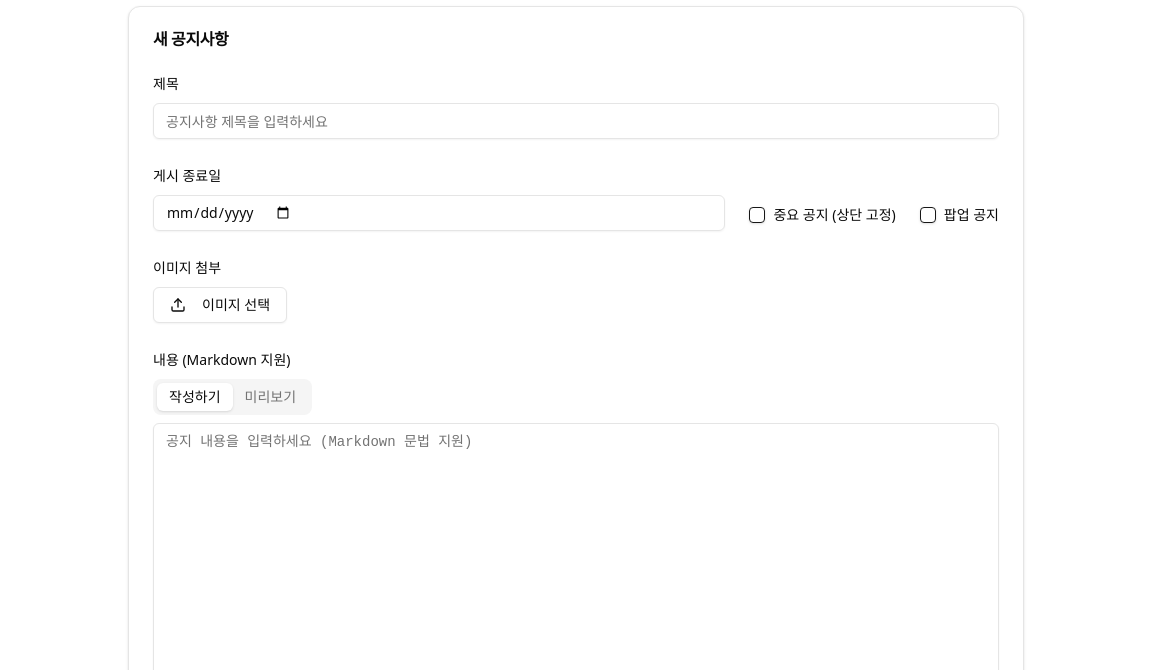
NotificationWrite › maps ApplicationError to a stable ErrorModal without code, cause, or database details
This screenshot has width=1152, height=670.
Type "새 공지" into the field labelled "제목" at (576, 121), box [153,103,999,139]
(page scrolled)
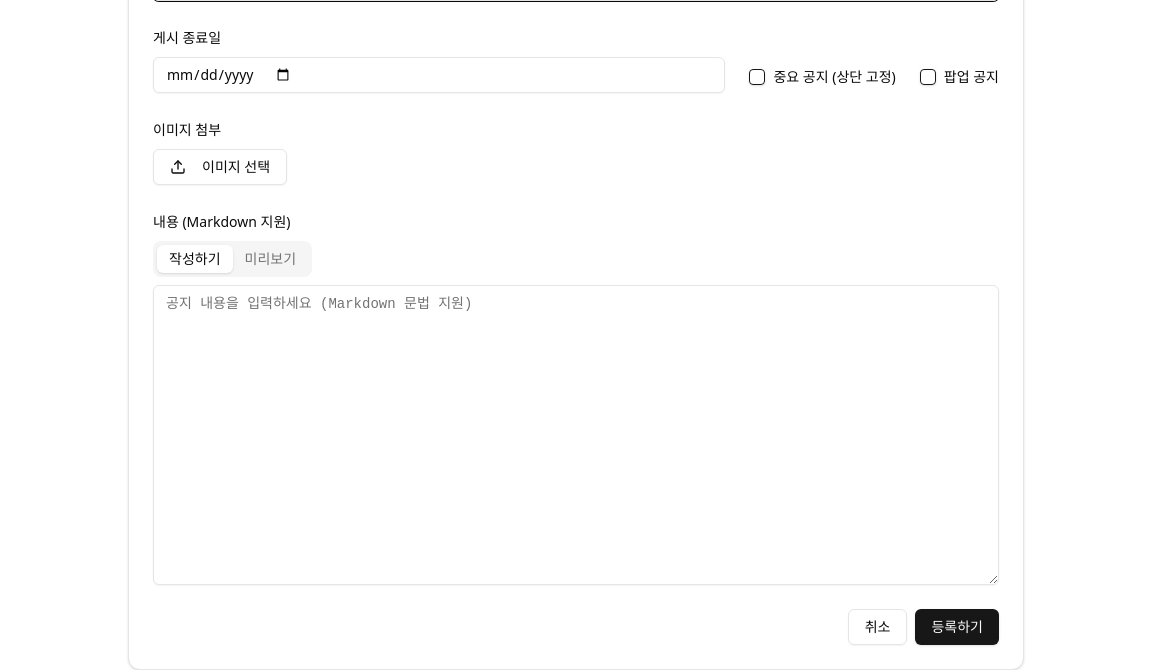
Type "새 공지 본문" into the text box with placeholder "공지 내용을 입력하세요 (Markdown 문법 지원)" at (576, 435), box [153,285,999,585]
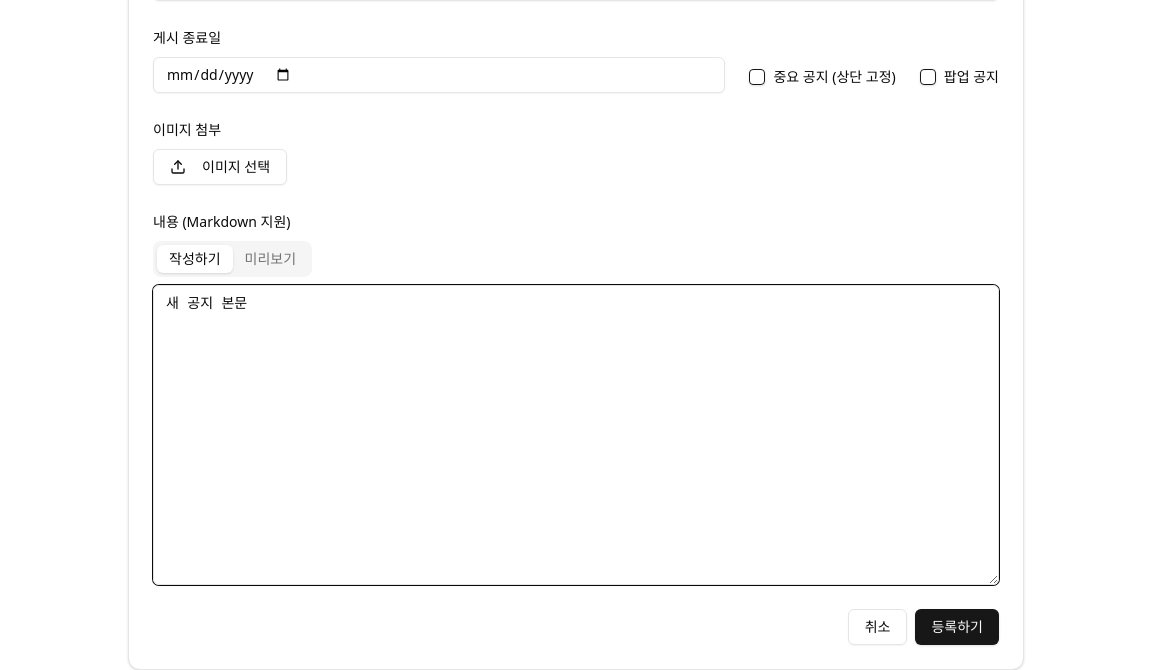
Click the button "등록하기" at (957, 627), box [916,609,999,645]
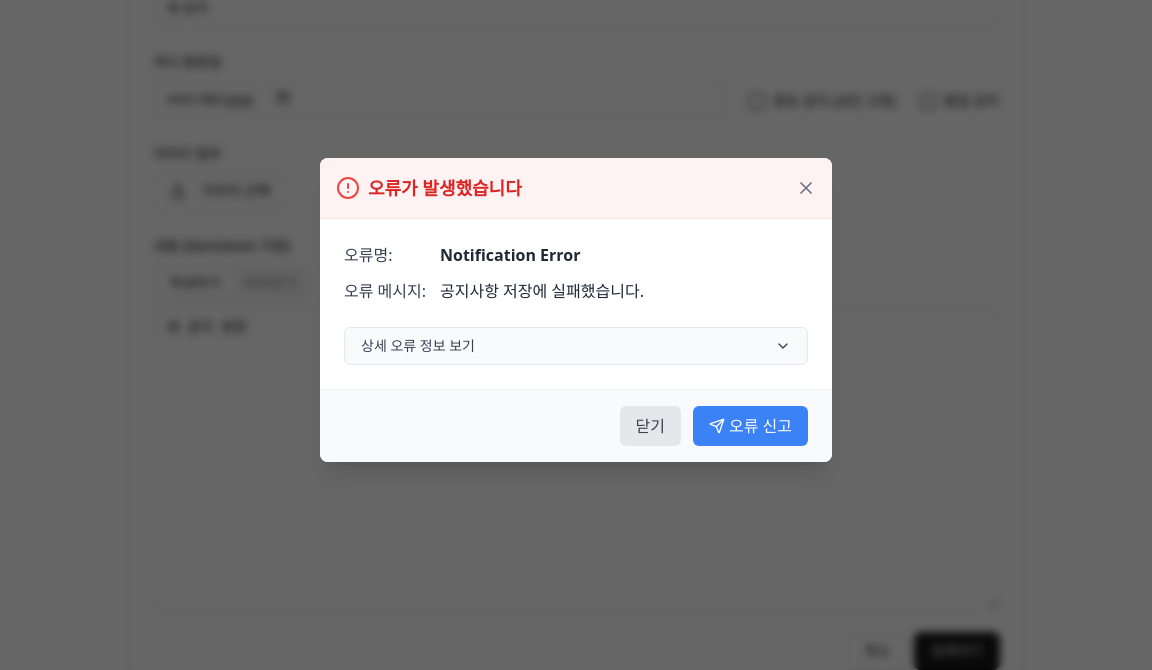
Result: the text "공지사항 저장에 실패했습니다." is shown at [440,279,644,303]
Result: the text "Notification Error" is shown at [440,243,580,267]
Click the button "상세 오류 정보 보기" at (405, 346), box [344,327,808,365]
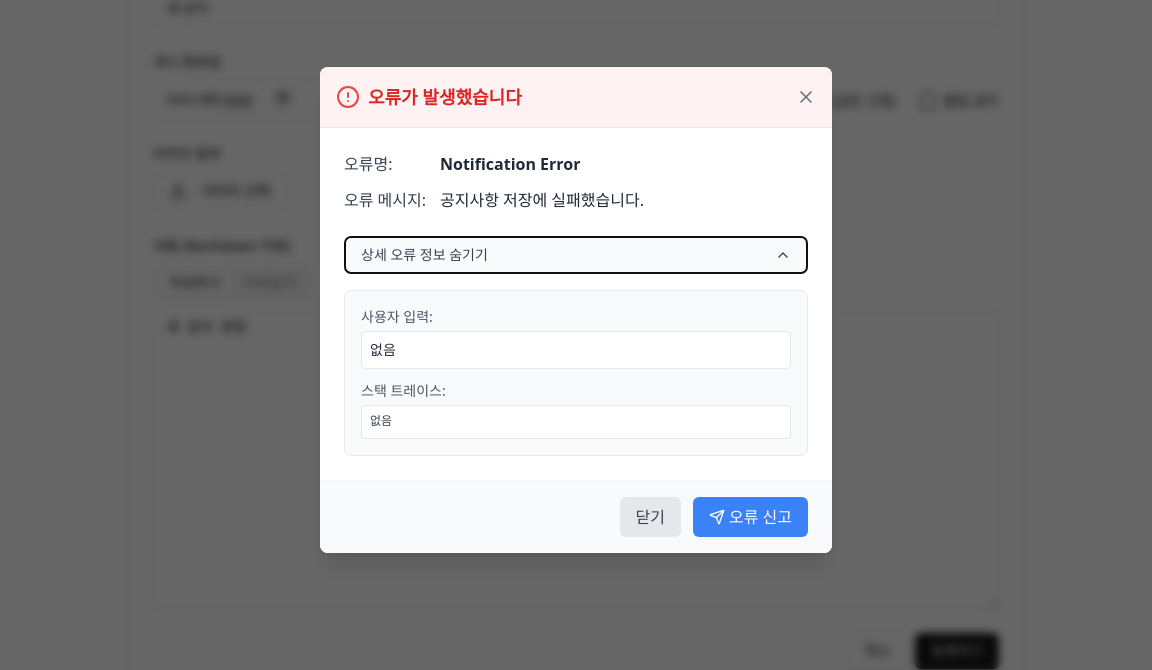
Result: the heading "스택 트레이스:" is shown at [361,381,446,400]
Result: the text "없음" is shown 2 times at [361,331,791,369]; [361,405,791,439]
